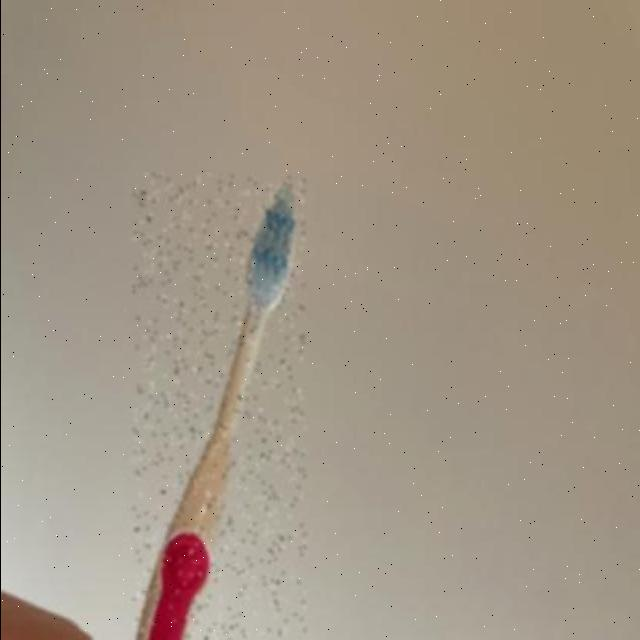toothbrush: (132, 174, 304, 640)
